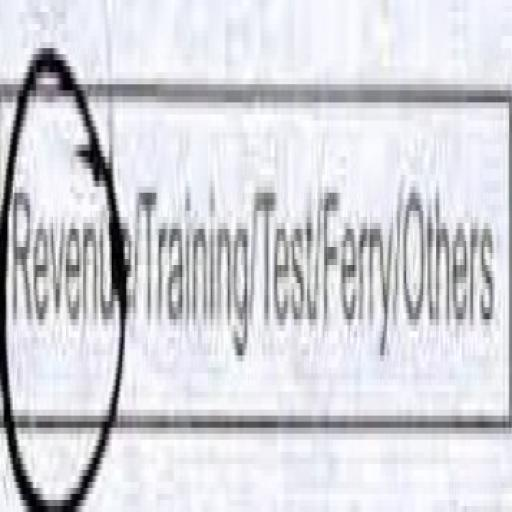check: (0, 8, 132, 512)
